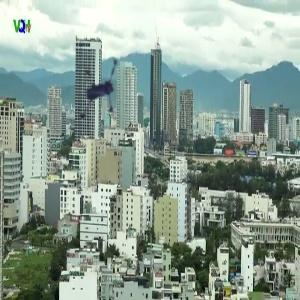drone: (60, 57, 146, 143)
